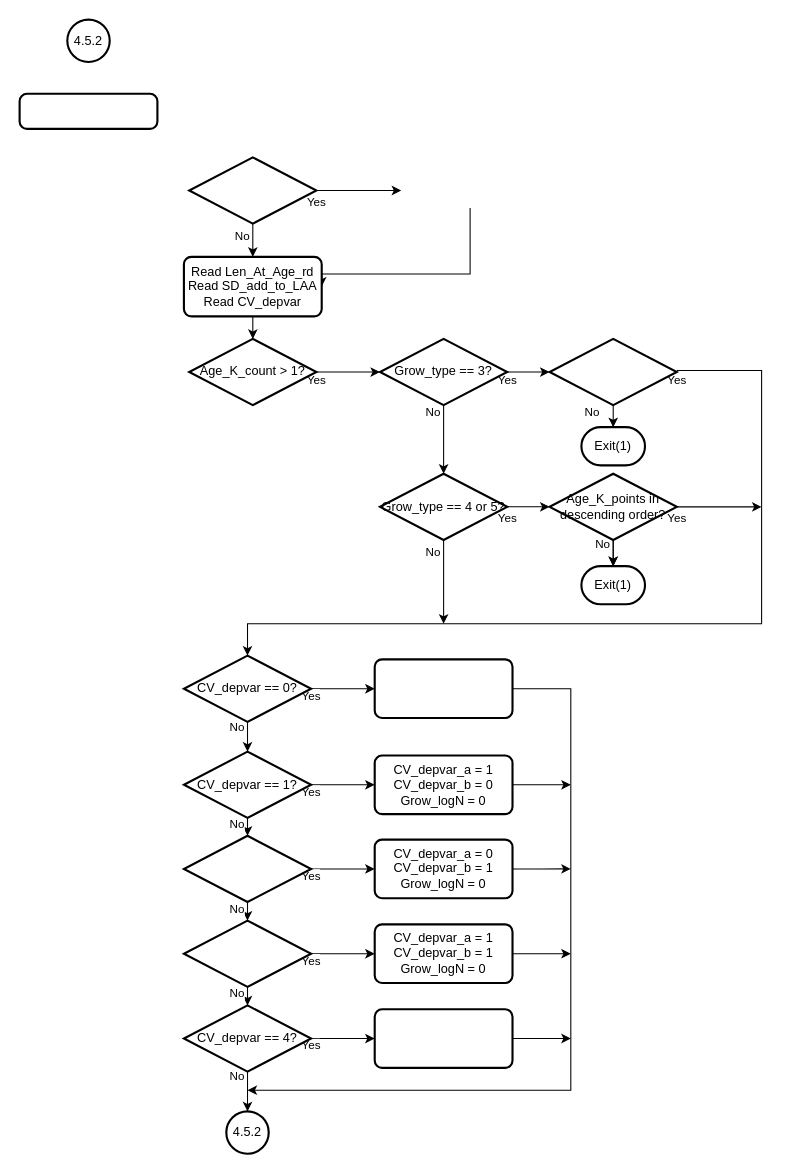
The diagram is 789 pixels wide and 1172 high, and some of its shapes have lost their labels. The box of each missing label's shape, as (x1, y1, x2, y2) in pixels:
Age_K_points > 0?: (188, 156, 317, 224)
Age_K_points in ascending order?: (548, 337, 677, 406)
CV_depvar == 2?: (182, 834, 312, 903)
CV_depvar == 3?: (182, 919, 312, 987)
CV_depvar_a = 0 CV_depvar_b = 0 Grow_logN = 0: (373, 658, 513, 719)
CV_depvar_a = 1 CV_depvar_b = 1 Grow_logN = 1: (373, 1008, 513, 1068)
Read Age_K_points: (18, 92, 158, 129)
